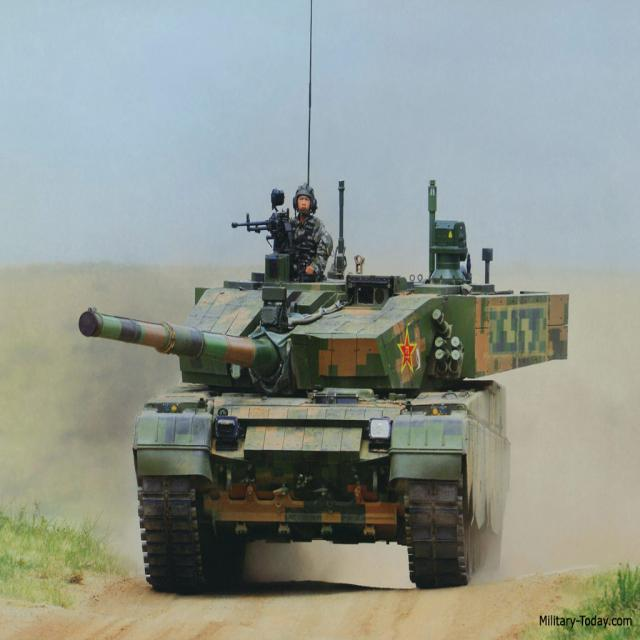Tank: (76, 260, 598, 573)
